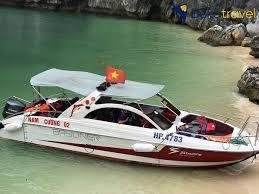Ship: (1, 67, 259, 168)
